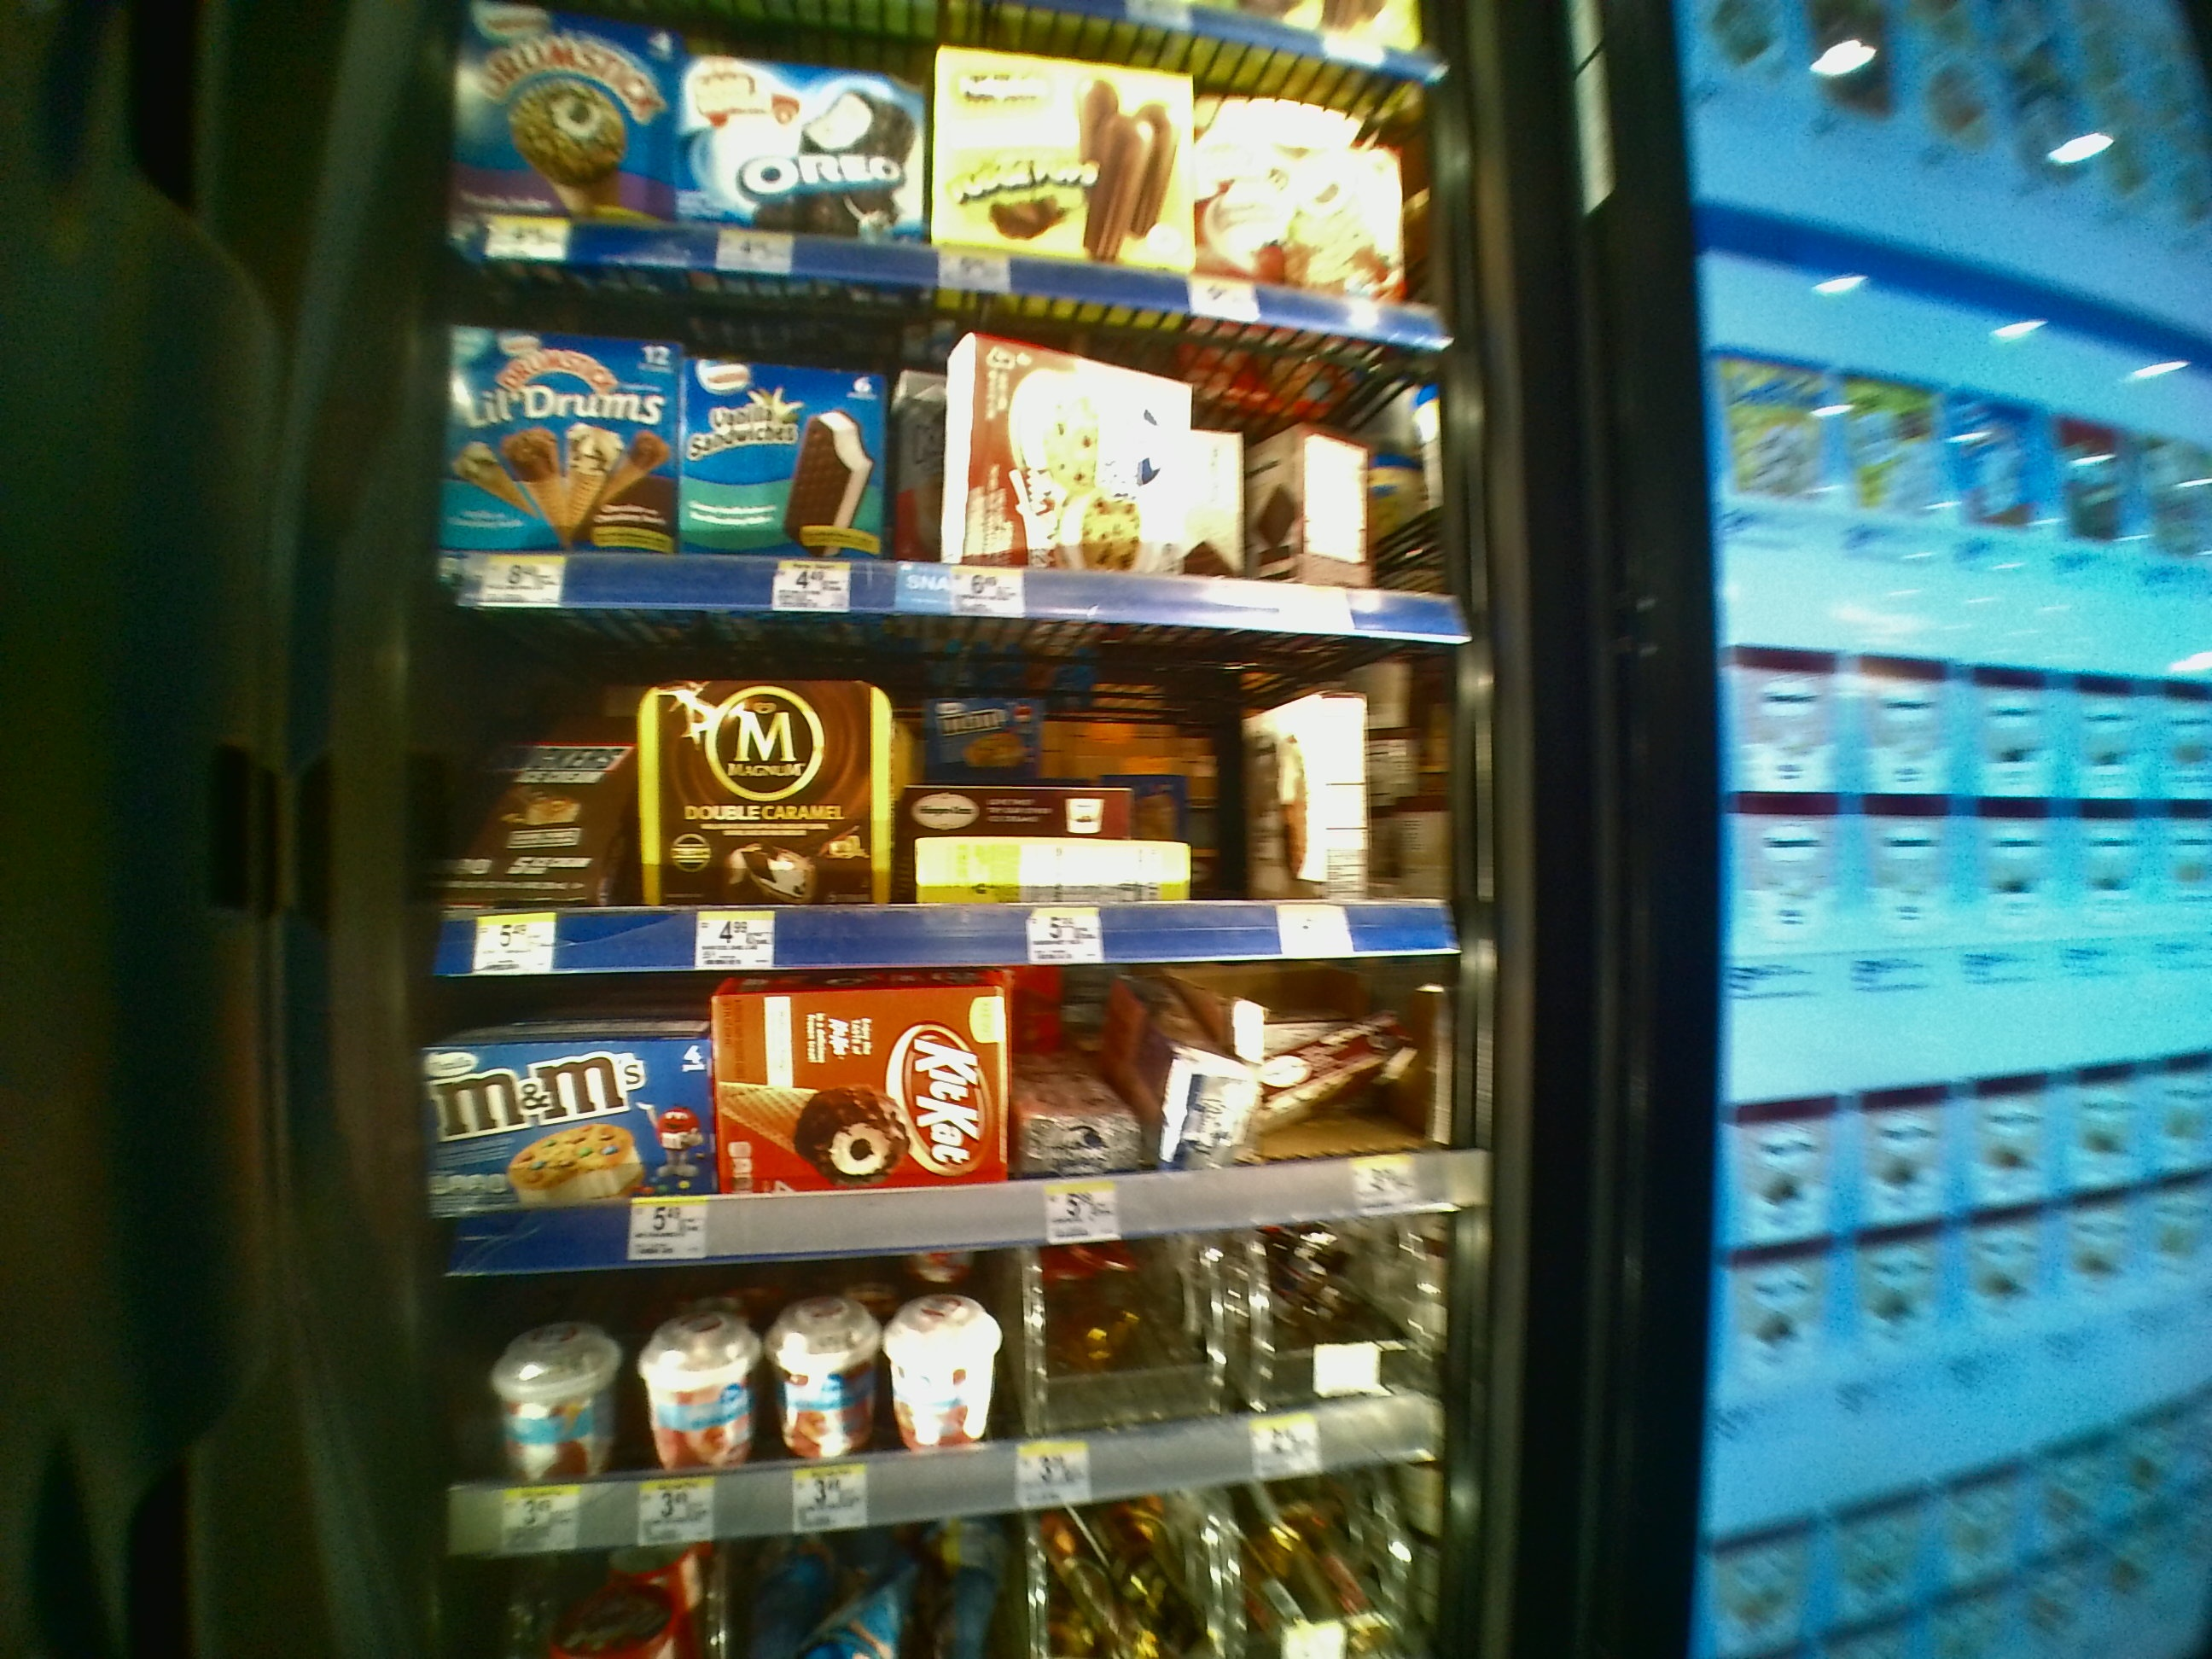shelf: (435, 622, 1480, 964), (435, 275, 1474, 612), (441, 985, 1496, 1274)
